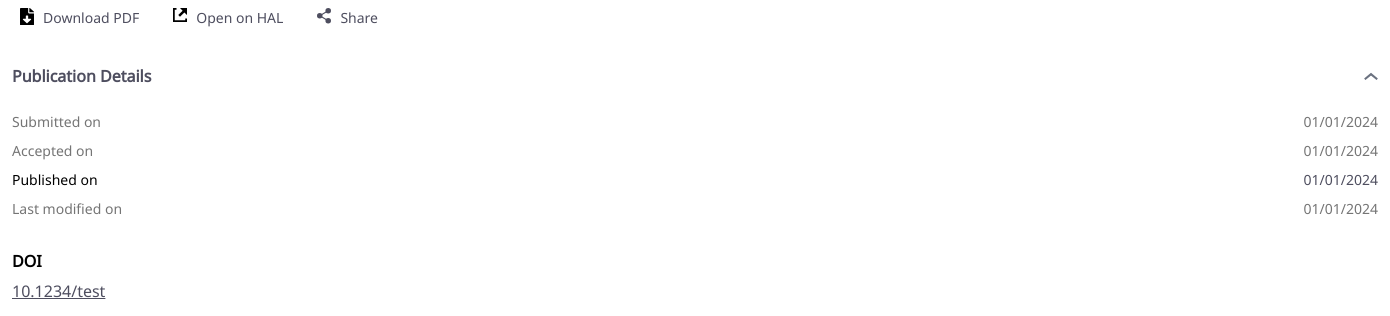
it: ArticleDetailsSidebar › Publication details › toggles publication details visibility on click
Expected: the element with class "articleDetailsSidebar-publicationDetails-content-opened" is shown, [12,112,1378,218]
Click the button "Publication Details": click(82, 76) [12,65,1378,87]
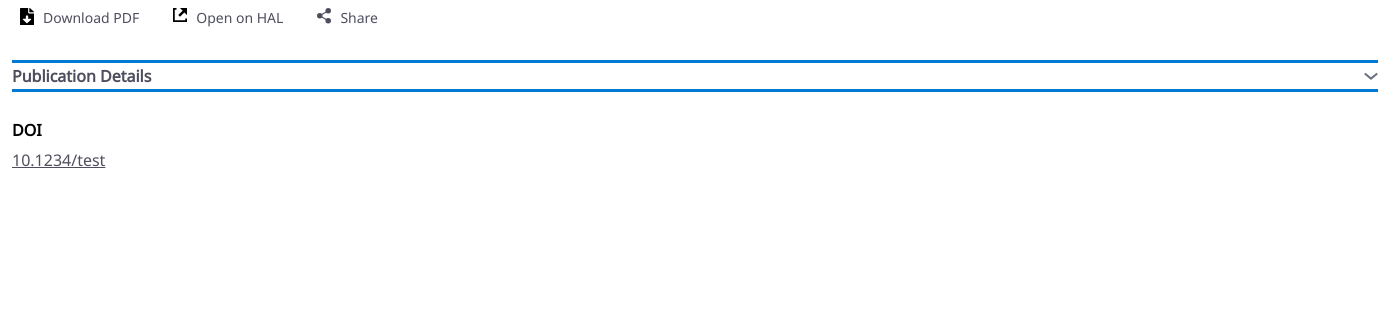
Now the element with class "articleDetailsSidebar-publicationDetails-content-opened" is gone
